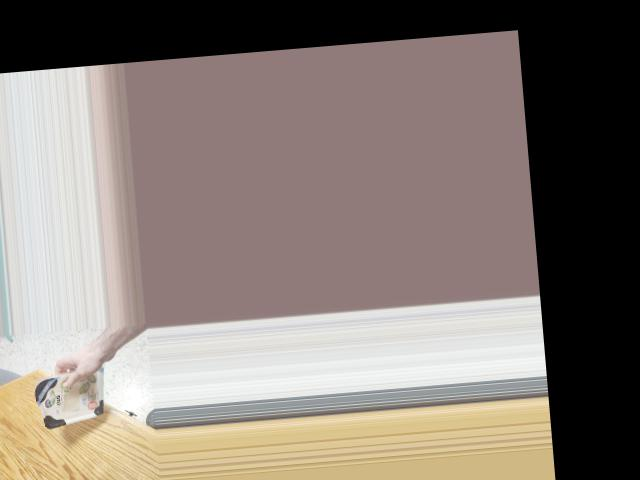cheese: (31, 360, 110, 430)
